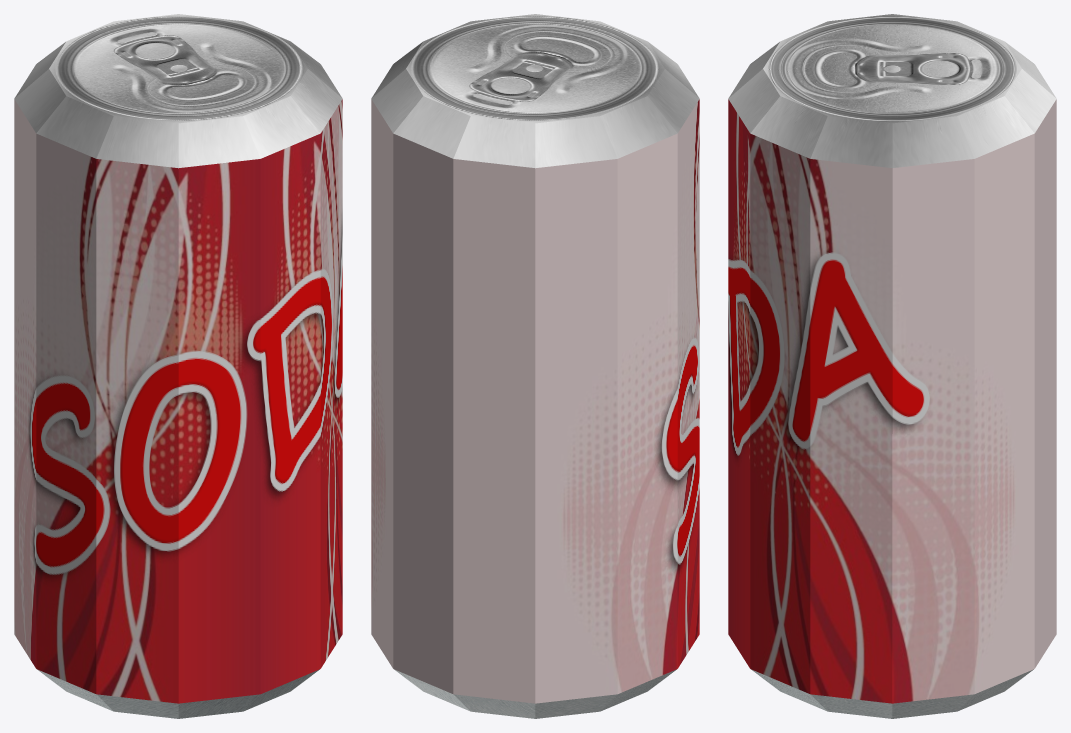
The model's file is can.fbx.
3 renders of one model, left to right at view 1: azimuth 30°, elevation 25°; view 2: azimuth 150°, elevation 25°; view 3: azimuth 270°, elevation 25°, orthographic.
Visible parts, largest first — view 1: Can_01; view 2: Can_01; view 3: Can_01.
Part boxes in pixels (bbox=[...]): Can_01: bbox=[14, 14, 342, 718]; Can_01: bbox=[371, 14, 699, 718]; Can_01: bbox=[728, 14, 1056, 718].
Bounding box in the file's own units: 6.5 × 13 × 6.5.
